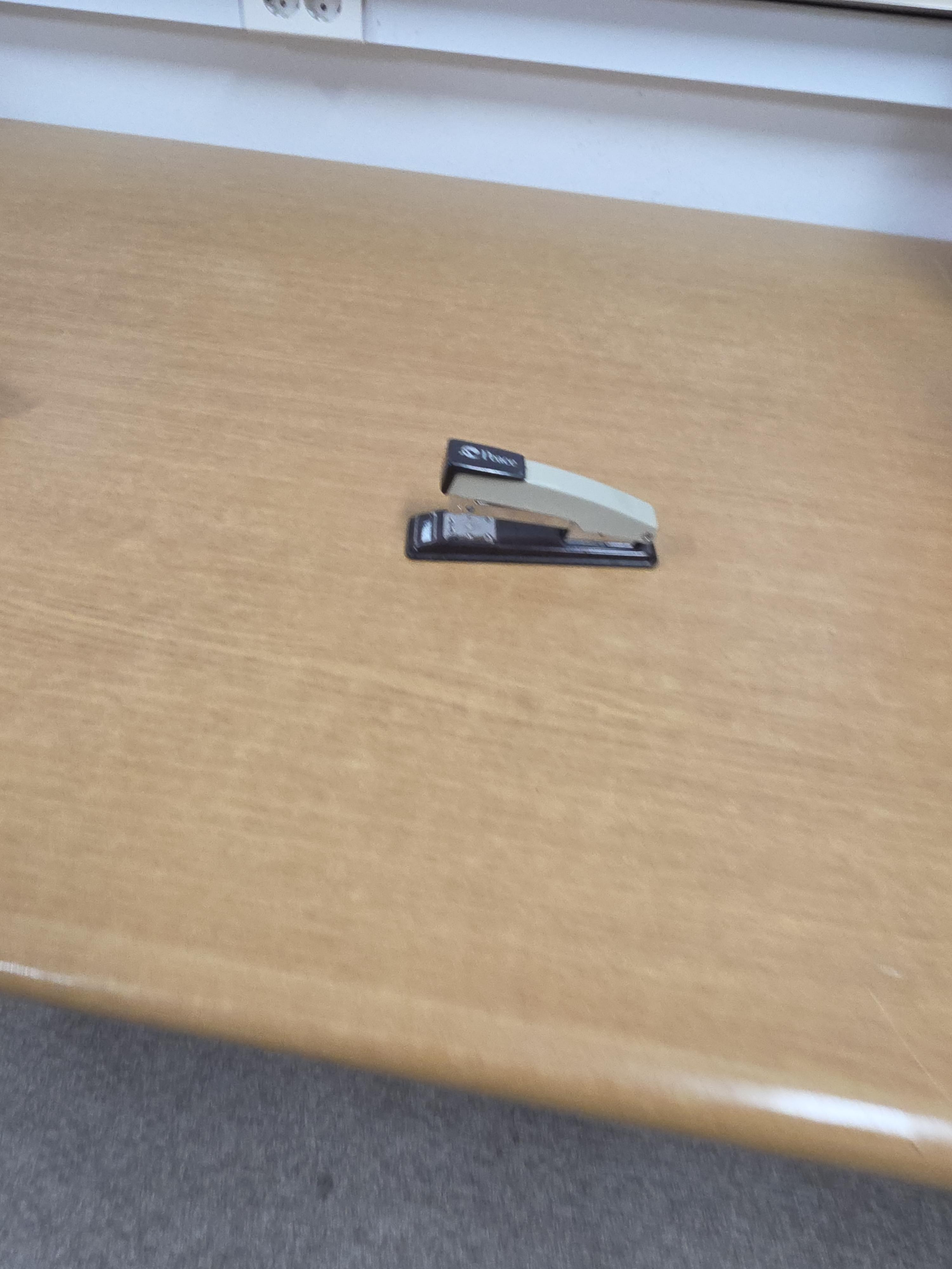stapler: (405, 437, 660, 568)
